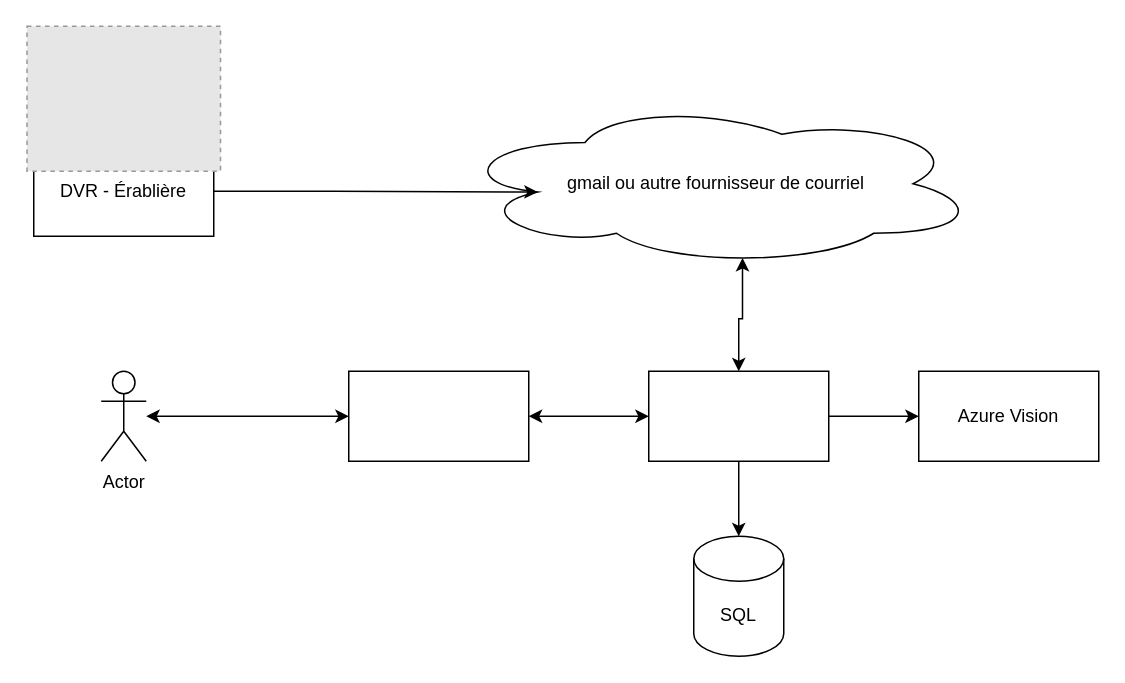
This 1125x683 diagram has some shape labels left out. Grey dashed boxes stand in for pictures. Here are the shapes that lost their labels. From the top down, the centre of each, then its label:
At (438,415): "ErabliereIU".
At (738,415): "EmailImageObserver".
